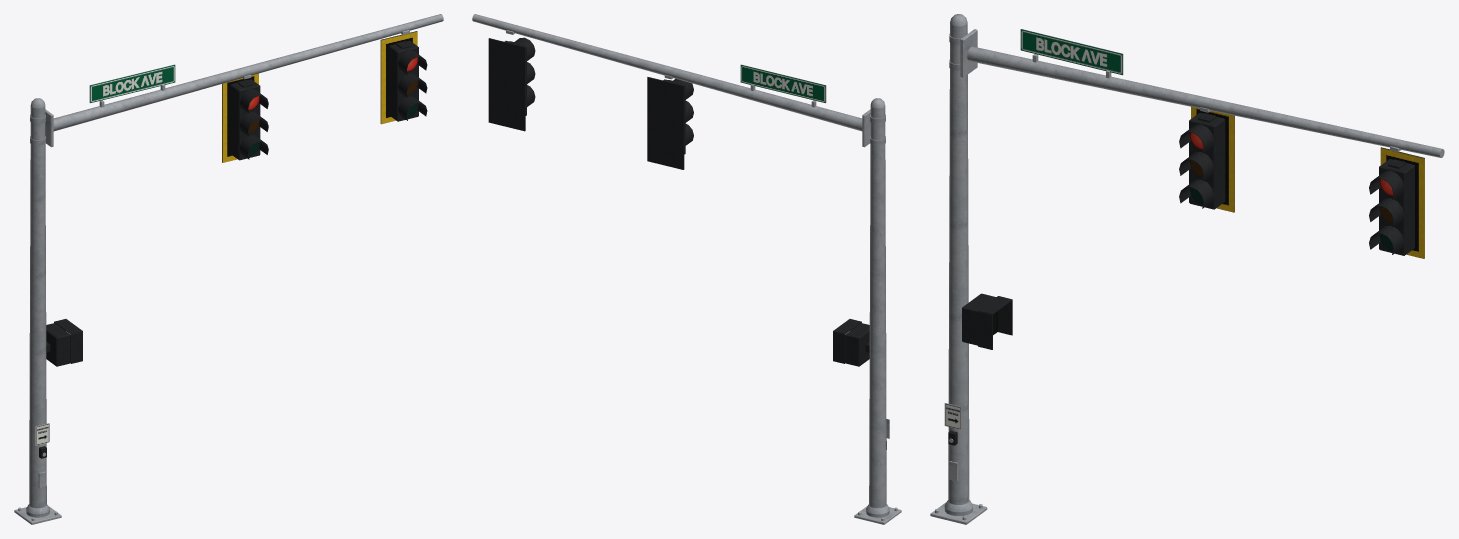
Rendered from v3_traffic_light.fbx.
3 views of the same model, side by side, from view 1: azimuth 30°, elevation 25°; view 2: azimuth 150°, elevation 25°; view 3: azimuth 330°, elevation 25° (orthographic). The views are drawn at different scales.
Visible parts, largest first — view 1: v3_traffic_light_LOD0; view 2: v3_traffic_light_LOD0; view 3: v3_traffic_light_LOD0.
Boxes of the visible parts, left/top/right/bottom form: v3_traffic_light_LOD0: left=14, top=14, right=443, bottom=524; v3_traffic_light_LOD0: left=472, top=14, right=901, bottom=524; v3_traffic_light_LOD0: left=930, top=14, right=1444, bottom=524.
Size of what is drawn, in the model's own units: 6.87 by 6.54 by 0.62.
